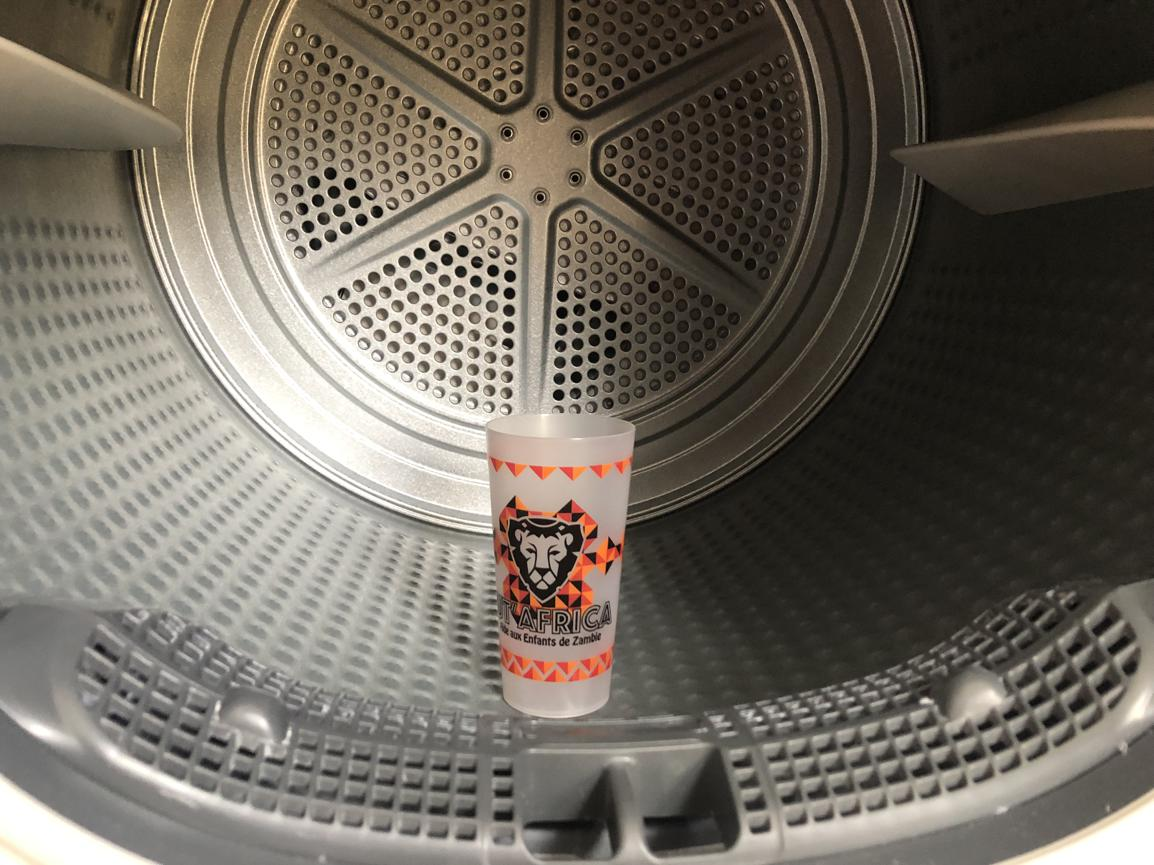ecocup: (482, 411, 634, 718)
